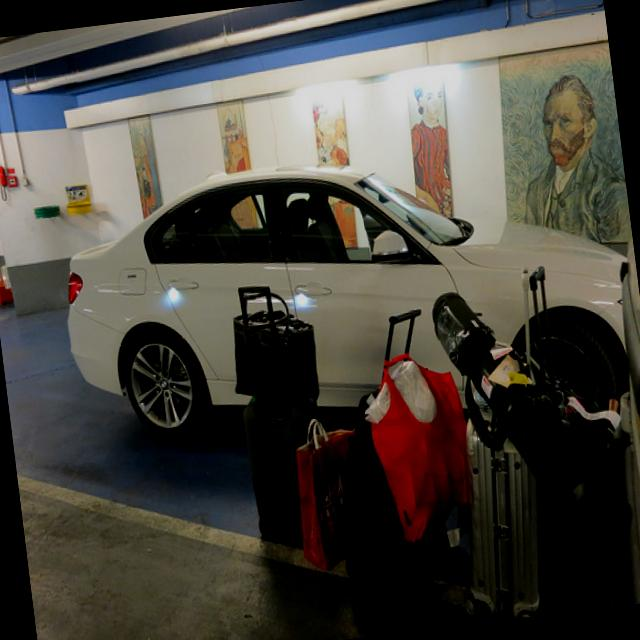Vehicle: (52, 127, 640, 466)
